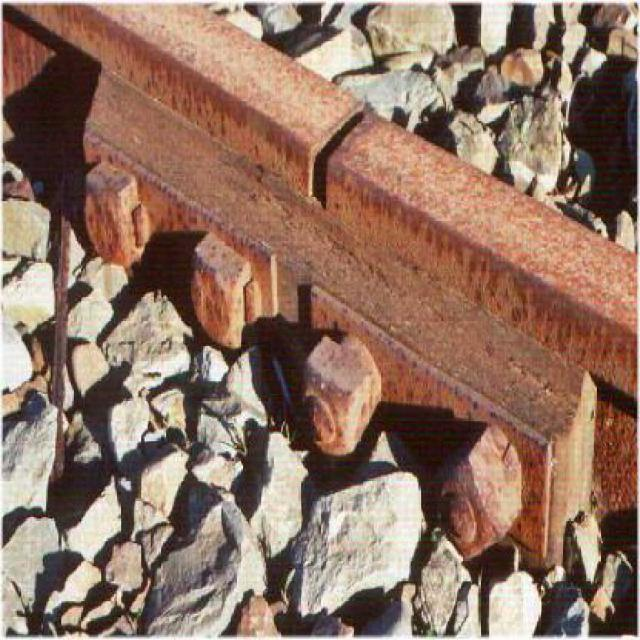defective: (172, 1, 584, 508)
